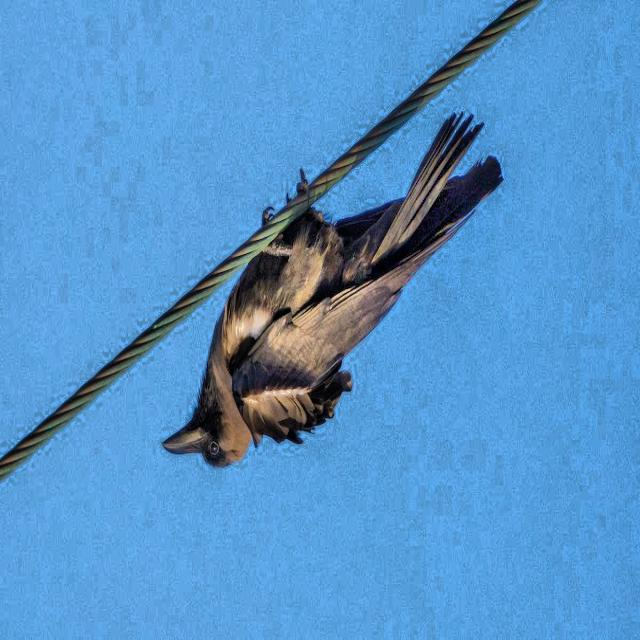crow: (141, 96, 516, 485)
